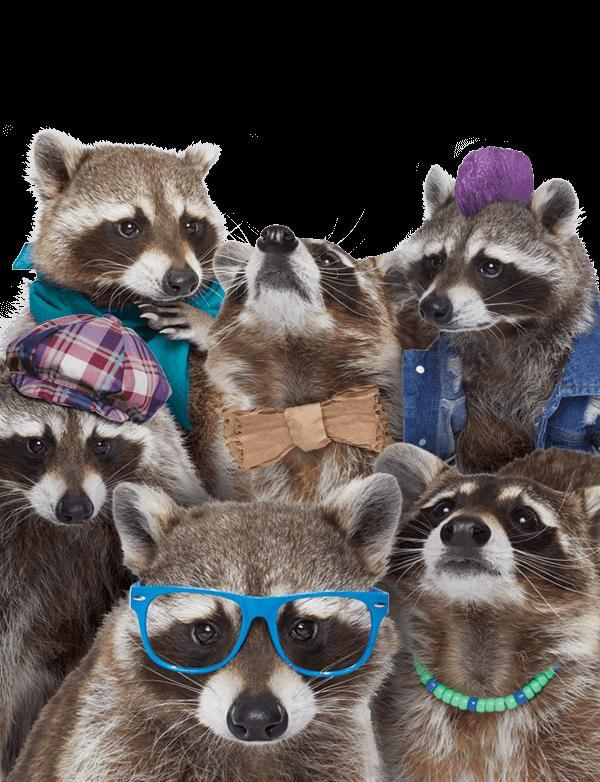raccoon: (111, 477, 399, 782), (369, 445, 600, 782), (401, 159, 597, 432), (206, 217, 397, 488), (1, 337, 185, 582), (22, 124, 224, 312)
